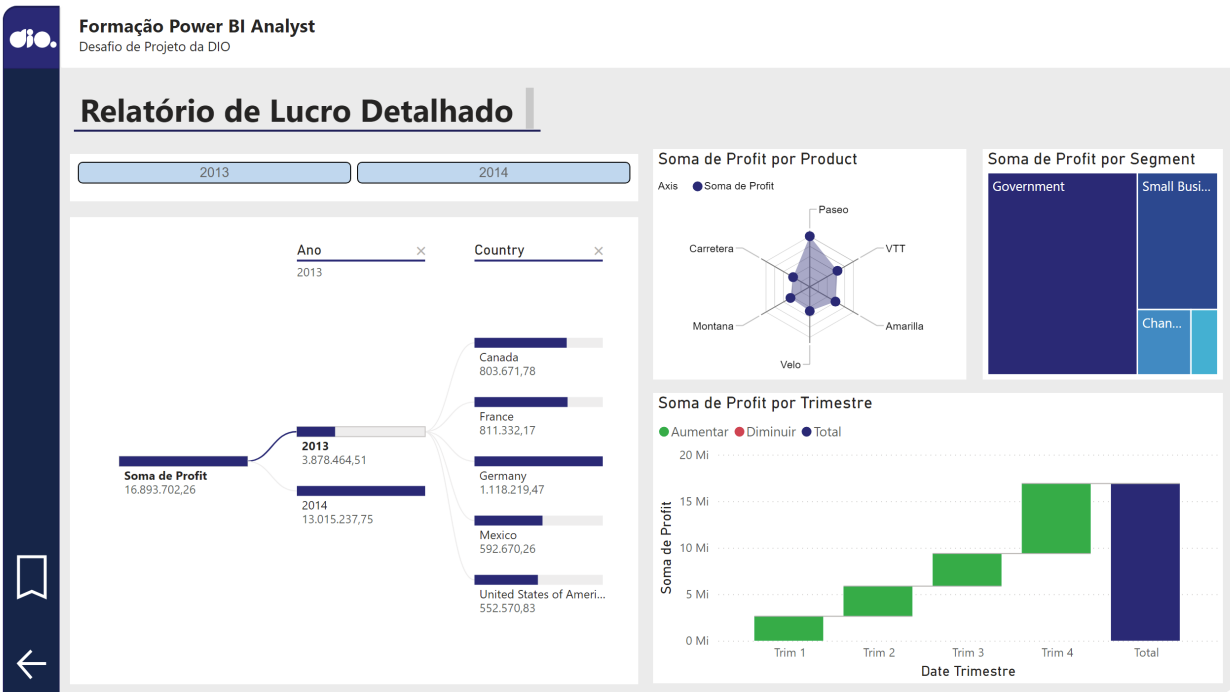

This screenshot's page, from the dashboard's own definition file:
{"tool":"powerbi","page":{"name":"Página 2","canvas":[1280,720],"ordinal":1},"visuals":[{"type":"shape","box":[42.6,20.7,1225.3,699.3],"z":0},{"type":"shape","box":[83.9,127.8,473,37.1],"z":0,"group":"g1"},{"type":"shape","box":[12.4,20.2,57.7,699.8],"z":1000},{"type":"textbox","box":[85.3,97.6,470.2,52.2],"z":1000,"group":"g1"},{"type":"shape","box":[12.4,20.6,57.7,63.2],"z":2000},{"type":"image","box":[13.7,33,57.7,39.9],"z":3000},{"type":"shape","title":"Fundo do Título","box":[71.5,20.6,1198.9,61.9],"z":4000},{"type":"textbox","title":"Título do report","box":[83.9,22,378.1,63.2],"z":5000},{"type":"shape","box":[79.7,233.7,576.1,473],"z":6000},{"type":"decompositionTreeVisual","fields":{"Analyze":["Sum(financials.Profit)"],"ExplainBy":["financials.Date.Variation.Hierarquia de datas.Ano","financials.Country"]},"box":[99.8,242.2,536.3,456.5],"z":7000},{"type":"waterfallChart","fields":{"Category":["financials.Date.Variation.Hierarquia de datas.Trimestre"],"Y":["Sum(financials.Profit)"]},"box":[670.9,412.5,577.4,294.2],"z":8000},{"type":"ChicletSlicer1448559807354","fields":{"Category":["financials.Date.Variation.Hierarquia de datas.Ano"]},"box":[79.7,170.5,576.1,48.1],"z":9000},{"type":"RadarChart1446119667547","fields":{"Category":["financials.Product"],"Y":["Sum(financials.Profit)"]},"box":[670.9,165,317.6,233.7],"z":10000},{"type":"treemap","fields":{"Values":["Sum(financials.Profit)"],"Group":["financials.Segment"]},"box":[1005,165,243.4,233.7],"z":11000},{"type":"actionButton","box":[22,666.8,48.1,39.9],"z":12000},{"type":"group","id":"g1","title":"Sales report","box":[83.9,97.6,473,67.4],"z":13000},{"type":"actionButton","box":[12.8,545.8,57,105.5],"z":14000}]}

Visuals, with their boxes on the page's 1280x720 design canvas (x1, y1, x2, y2). These are canvas units, not pixel positions in the 1230x692 screenshot, which may show the page scaled, cropped or inside an application window:
shape: l=43, t=21, r=1268, b=720
shape: l=84, t=128, r=557, b=165
shape: l=12, t=20, r=70, b=720
textbox: l=85, t=98, r=556, b=150
shape: l=12, t=21, r=70, b=84
image: l=14, t=33, r=71, b=73
"Fundo do Título" shape: l=72, t=21, r=1270, b=82
"Título do report" textbox: l=84, t=22, r=462, b=85
shape: l=80, t=234, r=656, b=707
decompositionTreeVisual - Sum(financials.Profit) x financials.Date.Variation.Hierarquia de datas.Ano: l=100, t=242, r=636, b=699
waterfallChart - financials.Date.Variation.Hierarquia de datas.Trimestre x Sum(financials.Profit): l=671, t=412, r=1248, b=707
ChicletSlicer1448559807354 - financials.Date.Variation.Hierarquia de datas.Ano: l=80, t=170, r=656, b=219
RadarChart1446119667547 - financials.Product x Sum(financials.Profit): l=671, t=165, r=988, b=399
treemap - Sum(financials.Profit) x financials.Segment: l=1005, t=165, r=1248, b=399
actionButton: l=22, t=667, r=70, b=707
"Sales report" group: l=84, t=98, r=557, b=165
actionButton: l=13, t=546, r=70, b=651
